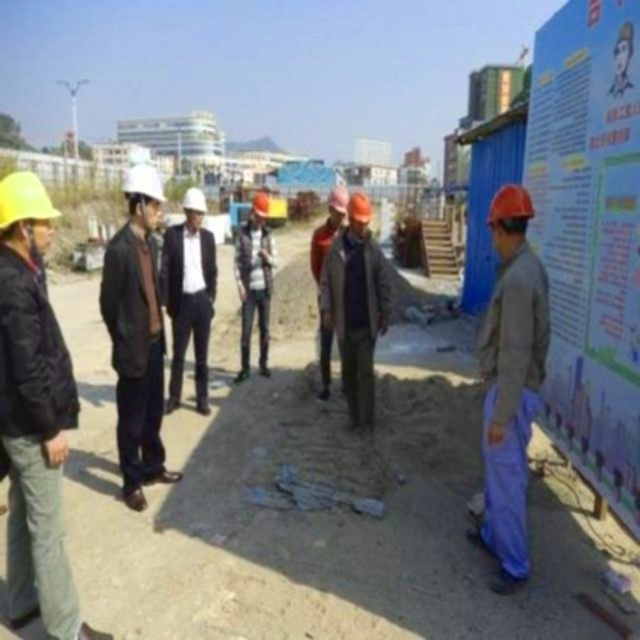Con_Casco: (0, 171, 60, 266)
Sin_Chaleco: (99, 226, 161, 340), (160, 225, 220, 320)
